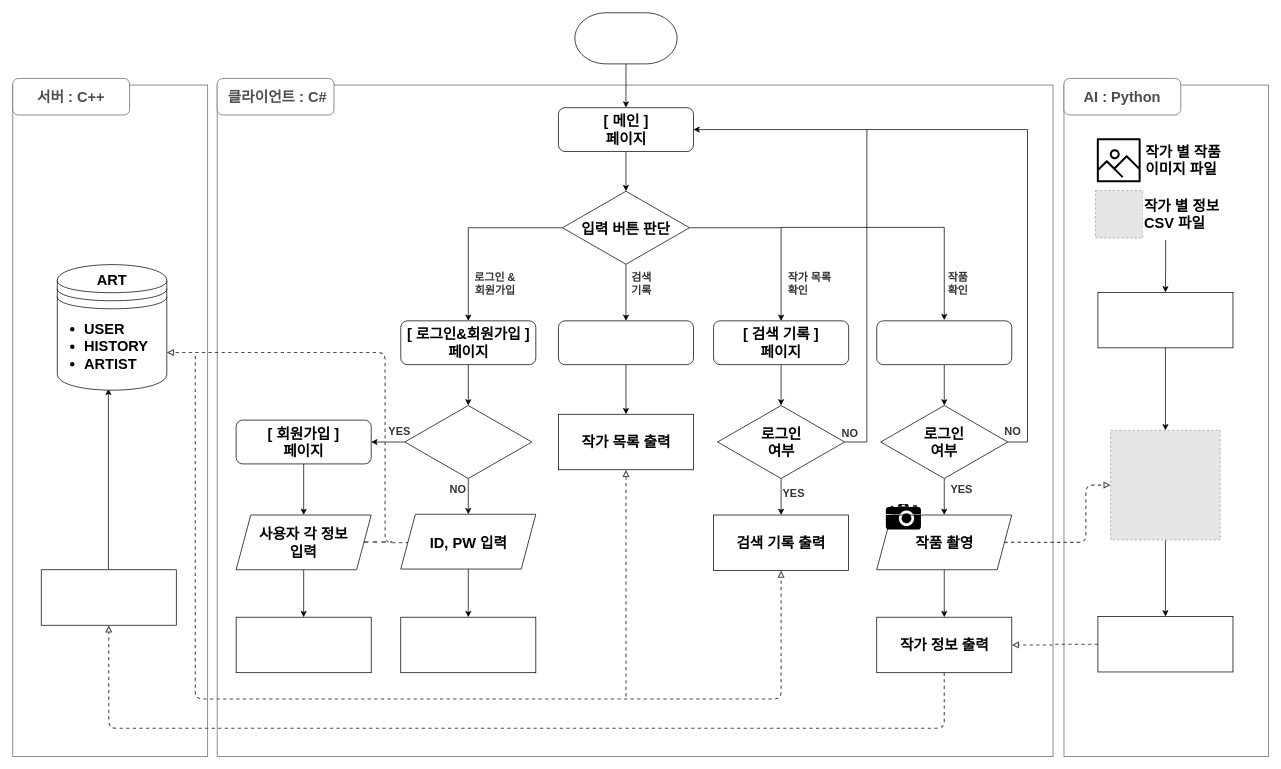
Image size: 1281x769. Some labels were removed from this diagram. Grey dashed boxes stand in for pictures. The centre of each missing label's shape, as x and y in pixels:
"[ 작가 목록 확인 ] 페이지" goes at [626,342].
"[ 작품 확인 ] 페이지" goes at [944,342].
"AI 모델 학습" goes at [1165,320].
"로그인 성공 여부 출력" goes at [468,644].
"시 작" goes at [625,38].
"작가 분류 정보" goes at [1165,644].
"작품, 작가 정보" goes at [108,597].
"회원가입 성공 여부 출력" goes at [303,644].
"회원가입 클릭" goes at [468,442].
